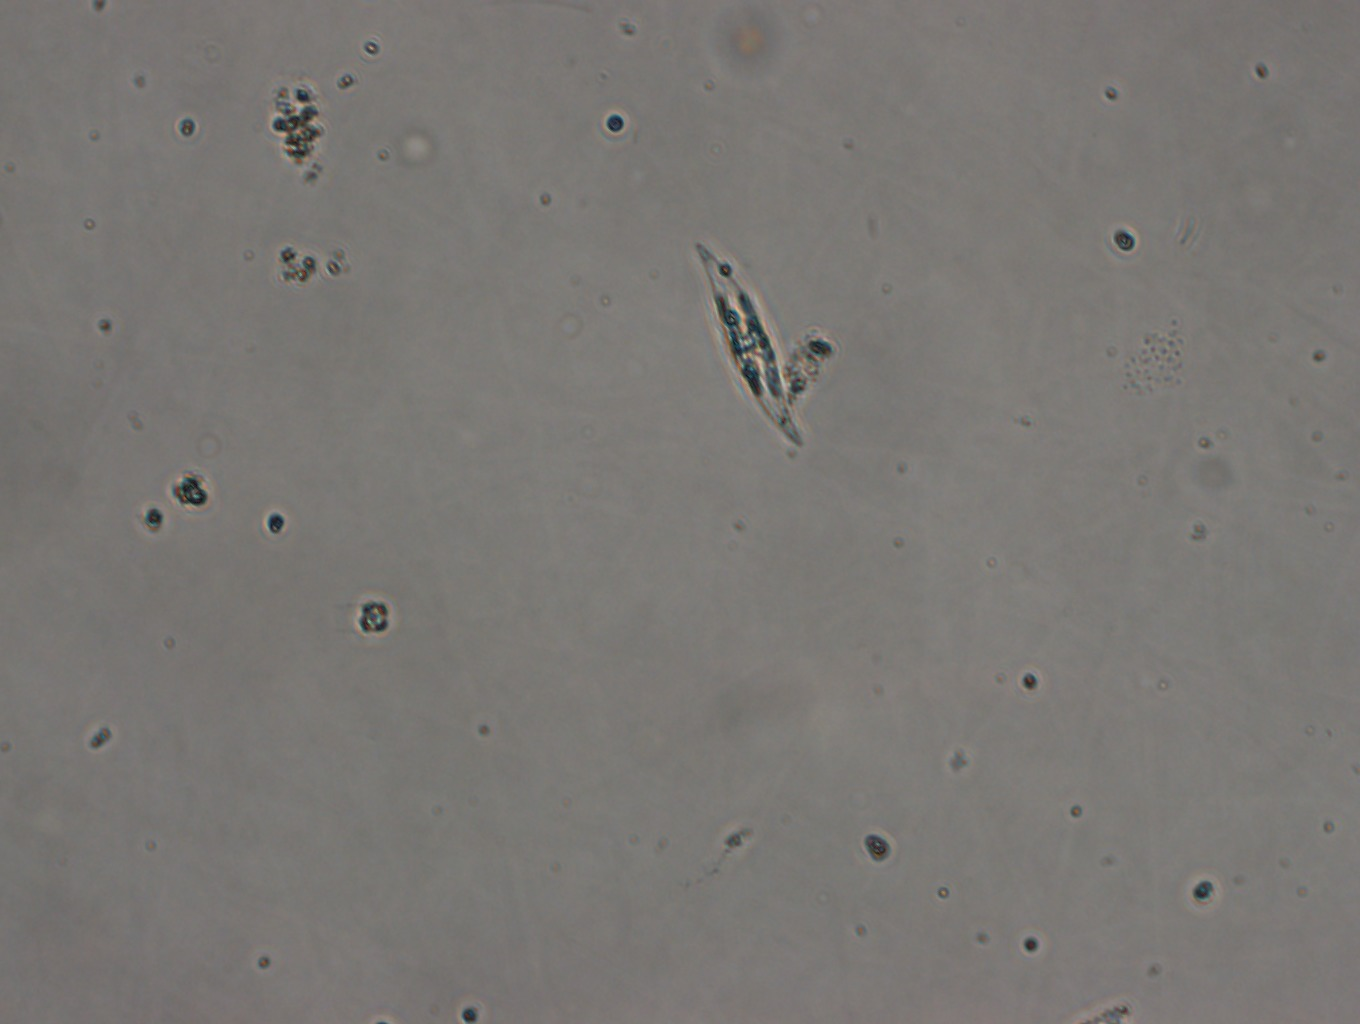pleurosigma pelagicum: (690, 238, 800, 447)
